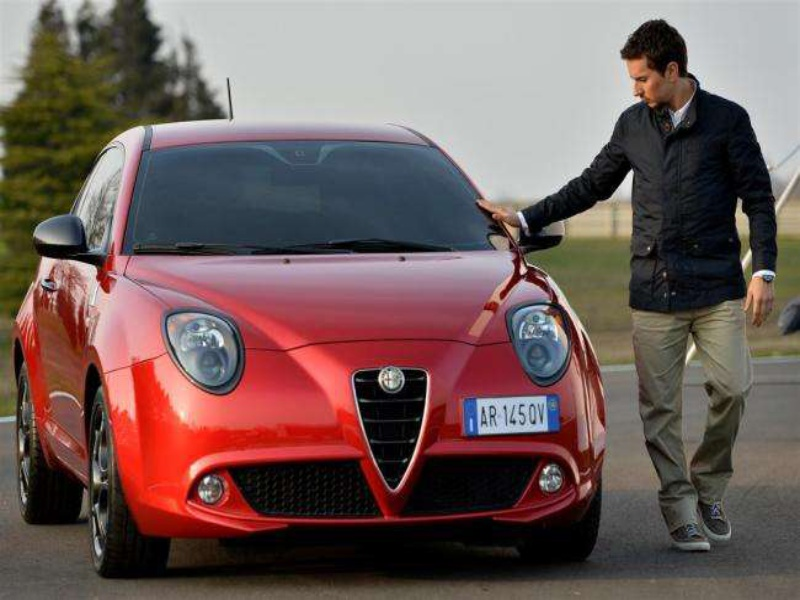licence_plate: (458, 389, 568, 443)
